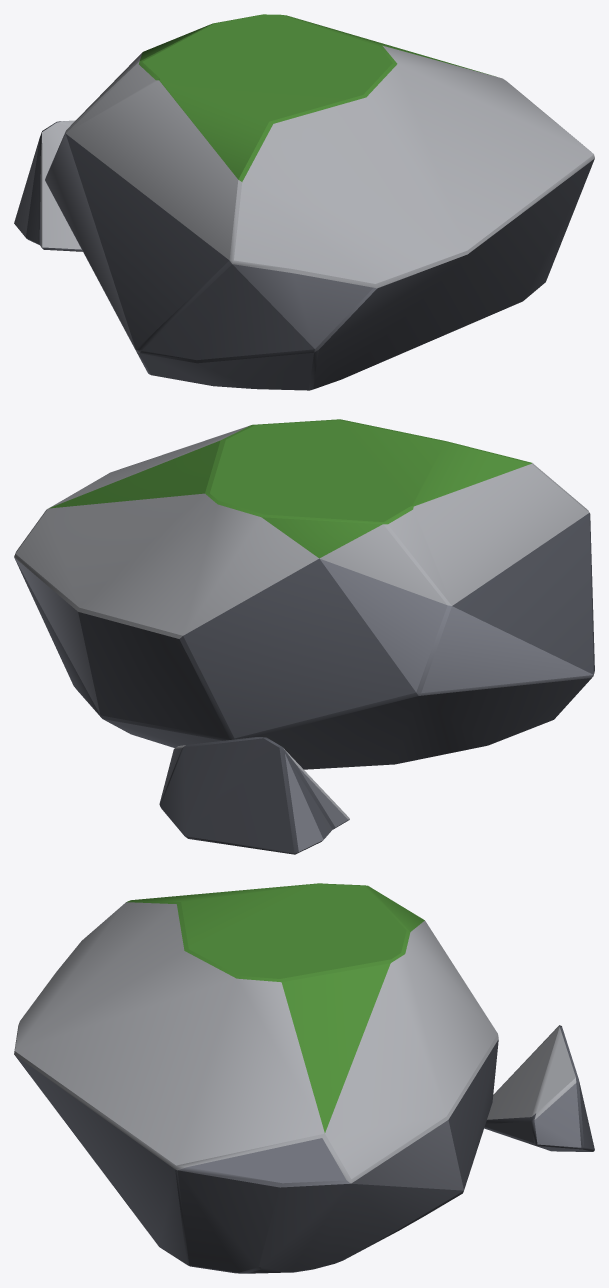
Rendered from Boulder_01.glb.
The picture shows the model from 3 angles, top to bottom: view 1: azimuth 30°, elevation 25°; view 2: azimuth 150°, elevation 25°; view 3: azimuth 270°, elevation 25°; orthographic projection. The views are drawn at different scales.
Parts seen in each view (by area): view 1: Boulder_01; view 2: Boulder_01; view 3: Boulder_01.
Part boxes in pixels (left/top/right/bottom): Boulder_01: left=14, top=14, right=594, bottom=390; Boulder_01: left=14, top=419, right=594, bottom=854; Boulder_01: left=14, top=883, right=594, bottom=1273.
Size of the model in its own units: 5.76 by 2.77 by 6.3.
